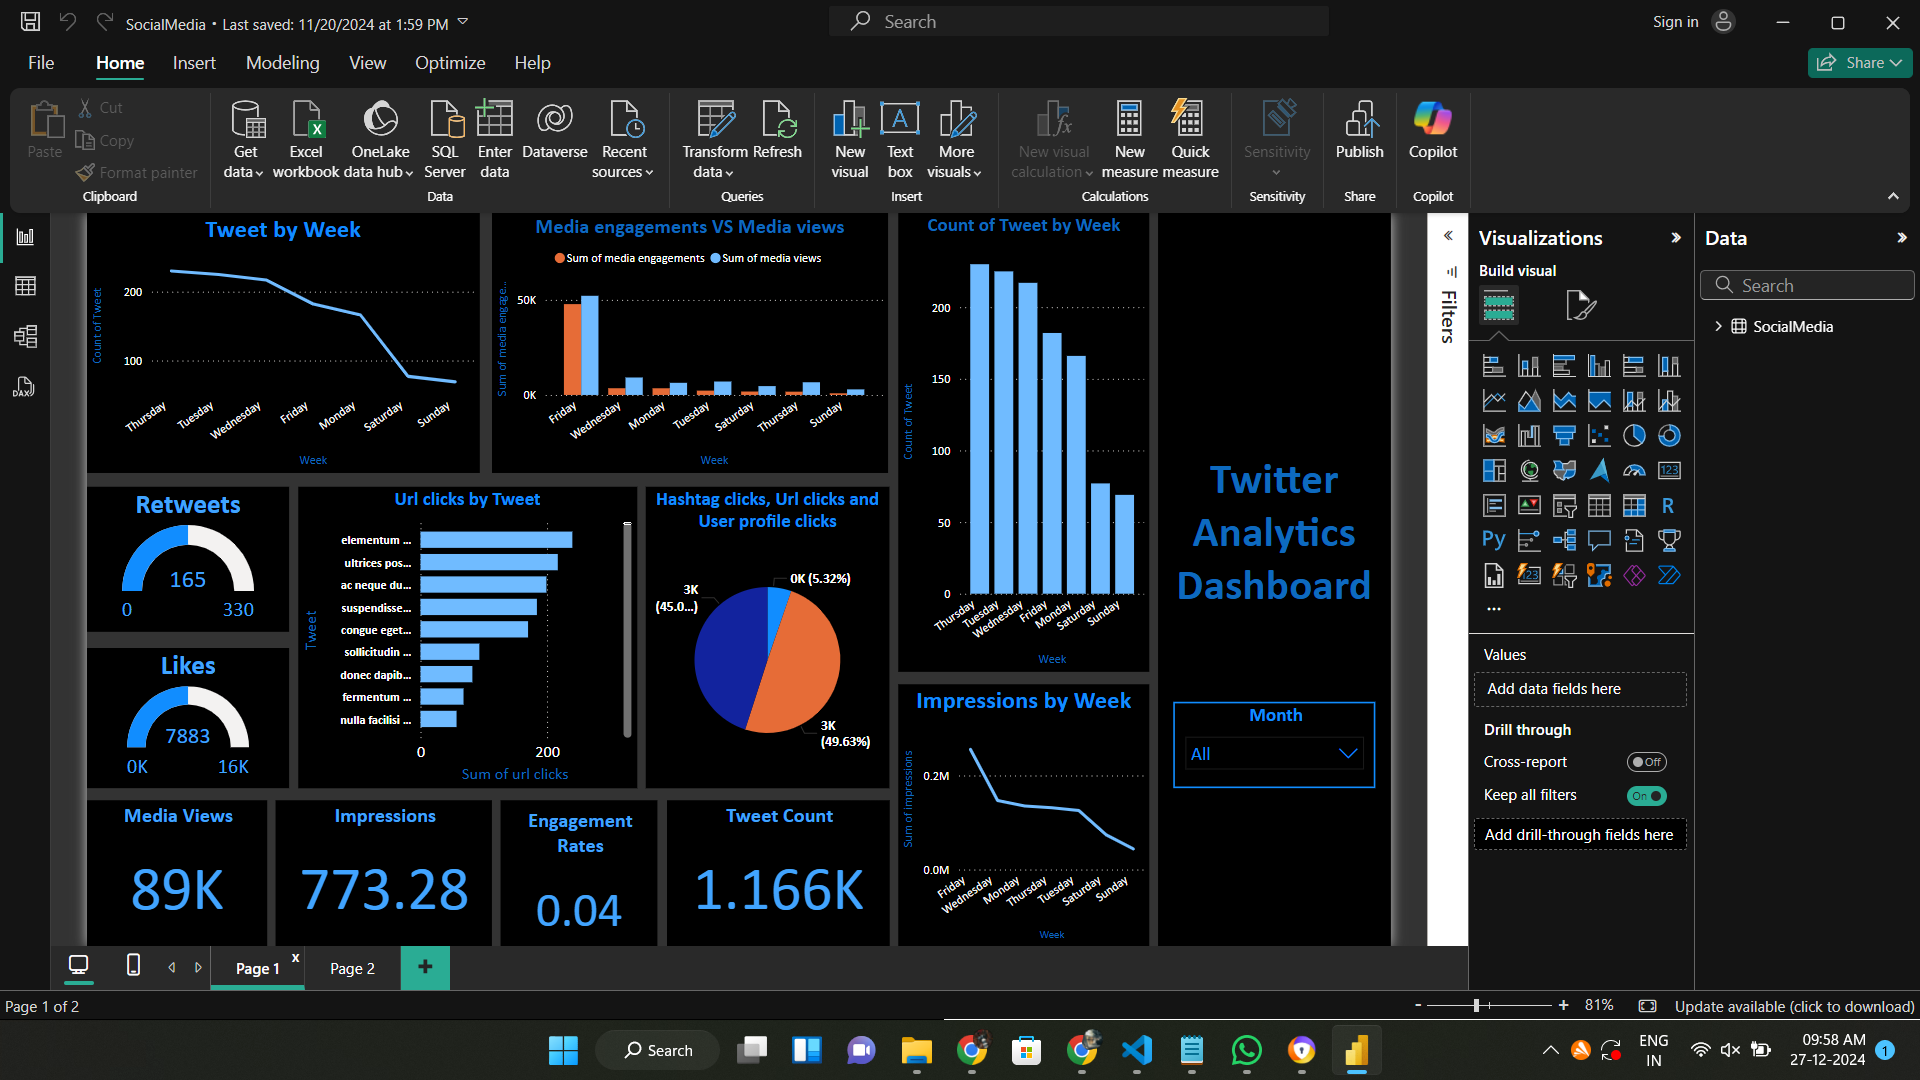

This screenshot's page, from the dashboard's own definition file:
{"tool":"powerbi","page":{"name":"Page 1","canvas":[1280,720],"ordinal":0},"visuals":[{"type":"textbox","box":[1051.5,0,228.2,720.2],"z":0},{"type":"cardVisual","title":"Media Views","fields":{"Data":["Sum(SocialMedia.media views)"]},"box":[0,576.7,176.7,143.6],"z":1000},{"type":"cardVisual","title":"Impressions","fields":{"Data":["CountNonNull(SocialMedia.impressions)","select"]},"box":[185.3,576.7,212.3,143.6],"z":2000},{"type":"cardVisual","title":"Engagement Rates","fields":{"Data":["Avg(SocialMedia.engagement rate)"]},"box":[406.1,576.7,153.4,143.6],"z":3000},{"type":"cardVisual","title":"Tweet Count","fields":{"Data":["CountNonNull(SocialMedia.Tweet)"]},"box":[569.3,576.7,218.4,143.6],"z":4000},{"type":"gauge","title":"Likes","fields":{"Y":["Sum(SocialMedia.likes)"]},"box":[0,427,198.8,137.4],"z":5000},{"type":"gauge","title":"Retweets","fields":{"Y":["Max(SocialMedia.retweets)"]},"box":[0,268.7,198.8,142.3],"z":6000},{"type":"slicer","title":"Month","fields":{"Values":["SocialMedia.Month"]},"box":[1066.3,479.8,198.8,84.7],"z":7000},{"type":"lineChart","title":"Tweet by Week","fields":{"Category":["SocialMedia.DayWeek"],"Y":["CountNonNull(SocialMedia.Tweet)"]},"box":[0,0,385.3,255.2],"z":8000},{"type":"lineChart","title":"Impressions by Week","fields":{"Category":["SocialMedia.DayWeek"],"Y":["Sum(SocialMedia.impressions)"]},"box":[796.3,462.6,246.6,257.7],"z":9000},{"type":"clusteredBarChart","title":"Url clicks by Tweet","fields":{"Y":["Sum(SocialMedia.url clicks)"],"Category":["SocialMedia.Tweet"]},"box":[207.4,268.7,332.5,295.7],"z":10000},{"type":"pieChart","title":"Hashtag clicks, Url clicks and User profile clicks","fields":{"Y":["Sum(SocialMedia.hashtag clicks)","Sum(SocialMedia.url clicks)","Sum(SocialMedia.user profile clicks)"]},"box":[548.5,268.7,239.3,295.7],"z":11000},{"type":"clusteredColumnChart","title":"Media engagements VS Media views ","fields":{"Category":["SocialMedia.Week"],"Y":["Sum(SocialMedia.media engagements)","Sum(SocialMedia.media views)"]},"box":[397.5,0,389,255.2],"z":12000},{"type":"clusteredColumnChart","fields":{"Category":["SocialMedia.Week"],"Y":["CountNonNull(SocialMedia.Tweet)"]},"box":[796.3,0,246.6,450.3],"z":13000}]}

Visuals, with their boxes on the page's 1280x720 design canvas (x1, y1, x2, y2). These are canvas units, not pixel positions in the 1920x1080 screenshot, which may show the page scaled, cropped or inside an application window:
textbox: detection(1052, 0, 1280, 720)
"Media Views" cardVisual: detection(0, 577, 177, 720)
"Impressions" cardVisual: detection(185, 577, 398, 720)
"Engagement Rates" cardVisual: detection(406, 577, 560, 720)
"Tweet Count" cardVisual: detection(569, 577, 788, 720)
"Likes" gauge: detection(0, 427, 199, 564)
"Retweets" gauge: detection(0, 269, 199, 411)
"Month" slicer: detection(1066, 480, 1265, 564)
"Tweet by Week" lineChart: detection(0, 0, 385, 255)
"Impressions by Week" lineChart: detection(796, 463, 1043, 720)
"Url clicks by Tweet" clusteredBarChart: detection(207, 269, 540, 564)
"Hashtag clicks, Url clicks and User profile clicks" pieChart: detection(548, 269, 788, 564)
"Media engagements VS Media views " clusteredColumnChart: detection(398, 0, 786, 255)
clusteredColumnChart - SocialMedia.Week x CountNonNull(SocialMedia.Tweet): detection(796, 0, 1043, 450)
